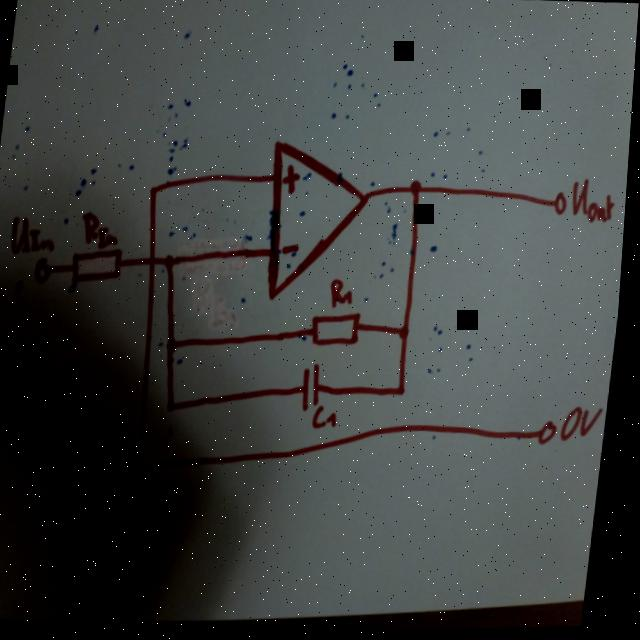capacitor: (299, 360, 333, 414)
crossover: (148, 252, 162, 269)
junction: (409, 177, 426, 198), (165, 251, 181, 270), (168, 336, 184, 353), (401, 323, 415, 342), (135, 456, 149, 475), (168, 397, 182, 414), (399, 383, 413, 399), (149, 182, 162, 197)
resistor: (71, 244, 129, 285), (312, 308, 367, 348)
terminal: (34, 253, 59, 285), (540, 418, 564, 450), (18, 435, 41, 463), (554, 190, 571, 218)
text: (570, 178, 619, 228), (10, 212, 61, 255), (563, 404, 609, 447), (80, 210, 126, 248), (329, 277, 361, 308), (316, 404, 344, 432), (0, 414, 14, 465)
